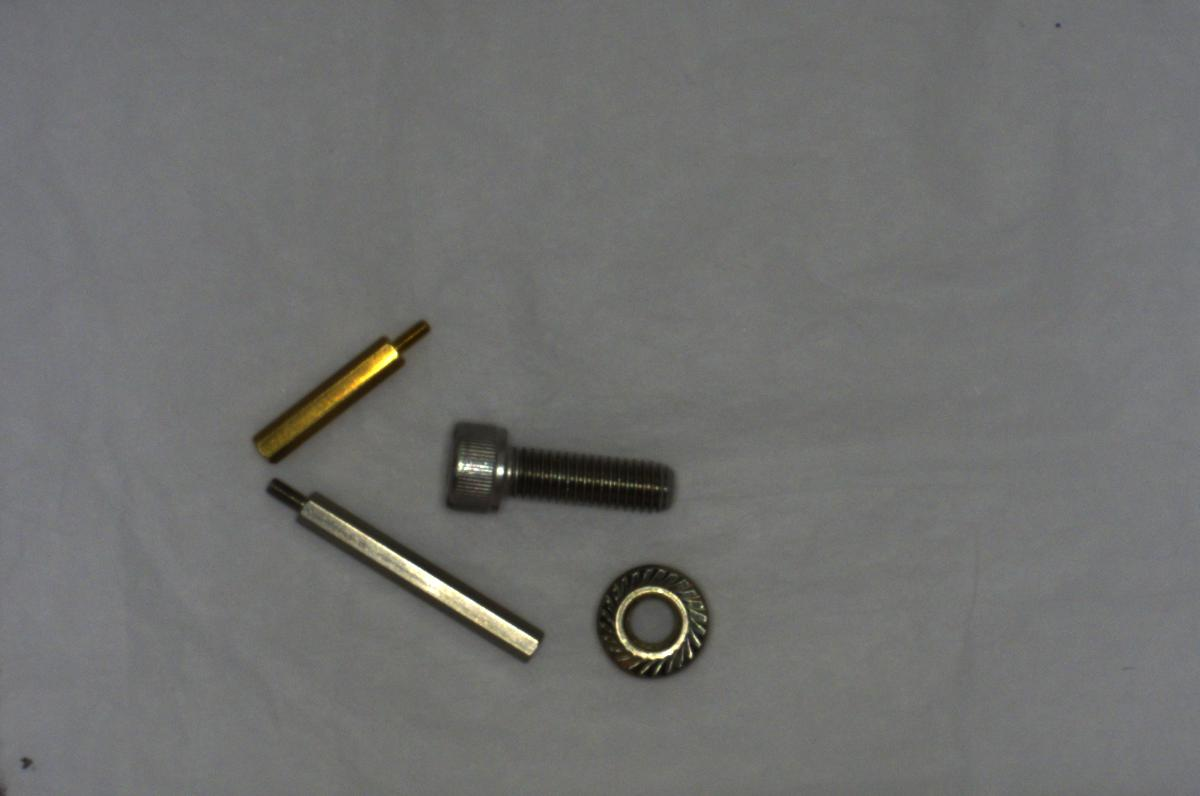Flange nut: (581, 552, 730, 695)
Hexagon pillar: (245, 303, 438, 469)
Hexagon screw: (438, 418, 688, 519)
Hexagonal steel column: (259, 472, 545, 666)
